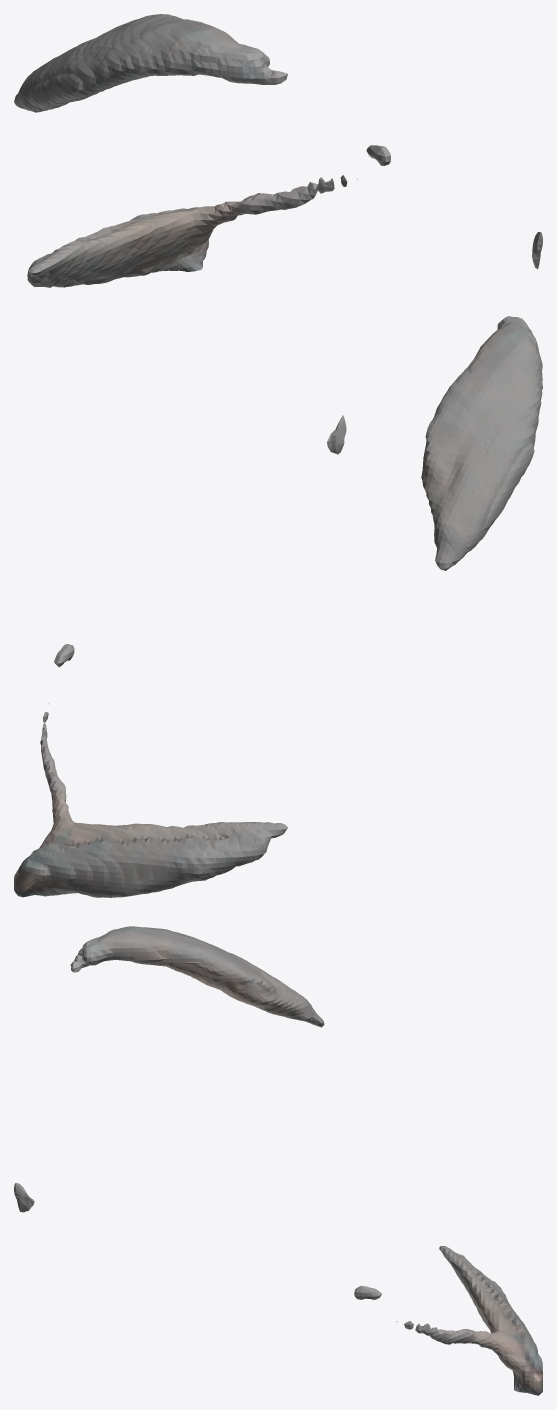
3 renders of one model, top to bottom at view 1: azimuth 30°, elevation 25°; view 2: azimuth 150°, elevation 25°; view 3: azimuth 270°, elevation 25°, orthographic. The views are drawn at different scales.
Parts seen in each view (by area): view 1: world; view 2: world; view 3: world.
Part boxes in pixels (left/top/right/bottom): world: left=14, top=14, right=542, bottom=287; world: left=14, top=316, right=542, bottom=897; world: left=14, top=926, right=542, bottom=1395.
Size of the model in its own units: 0.5555 by 0.6244 by 0.8146.
